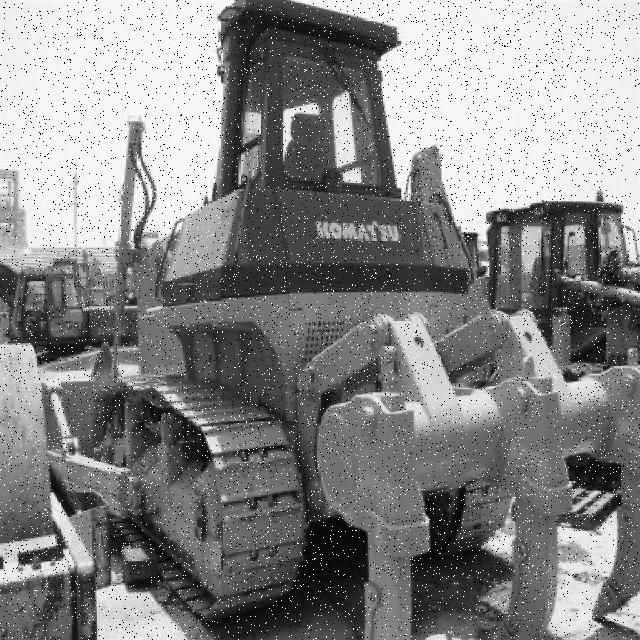Construction Equipment: (38, 0, 640, 640)
